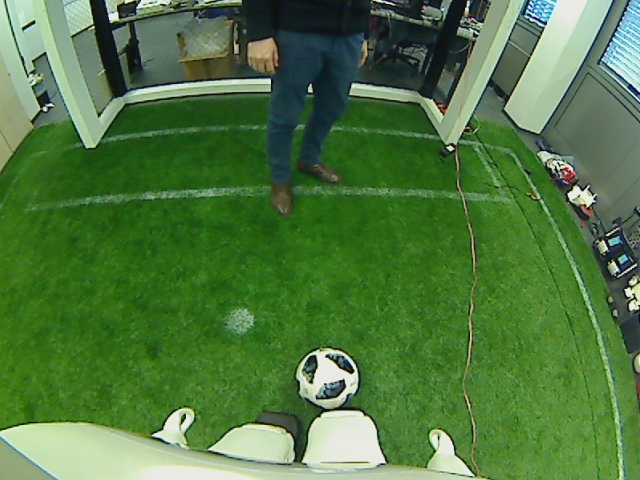ball: (293, 343, 359, 409)
